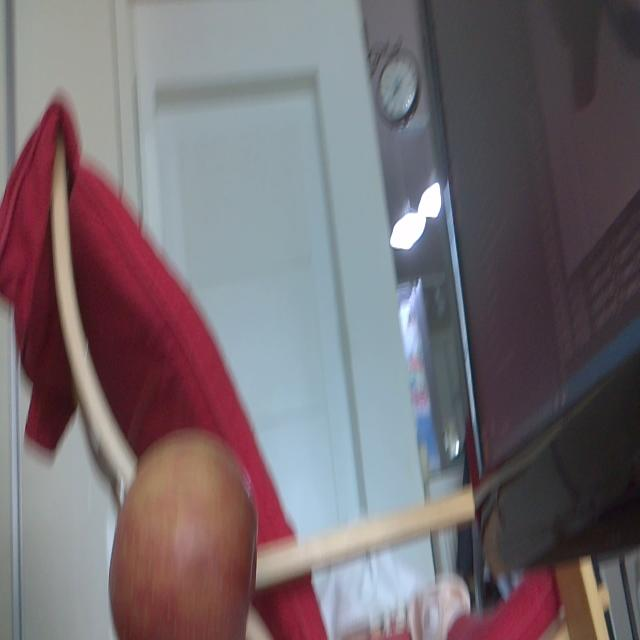apple: (109, 426, 257, 640)
